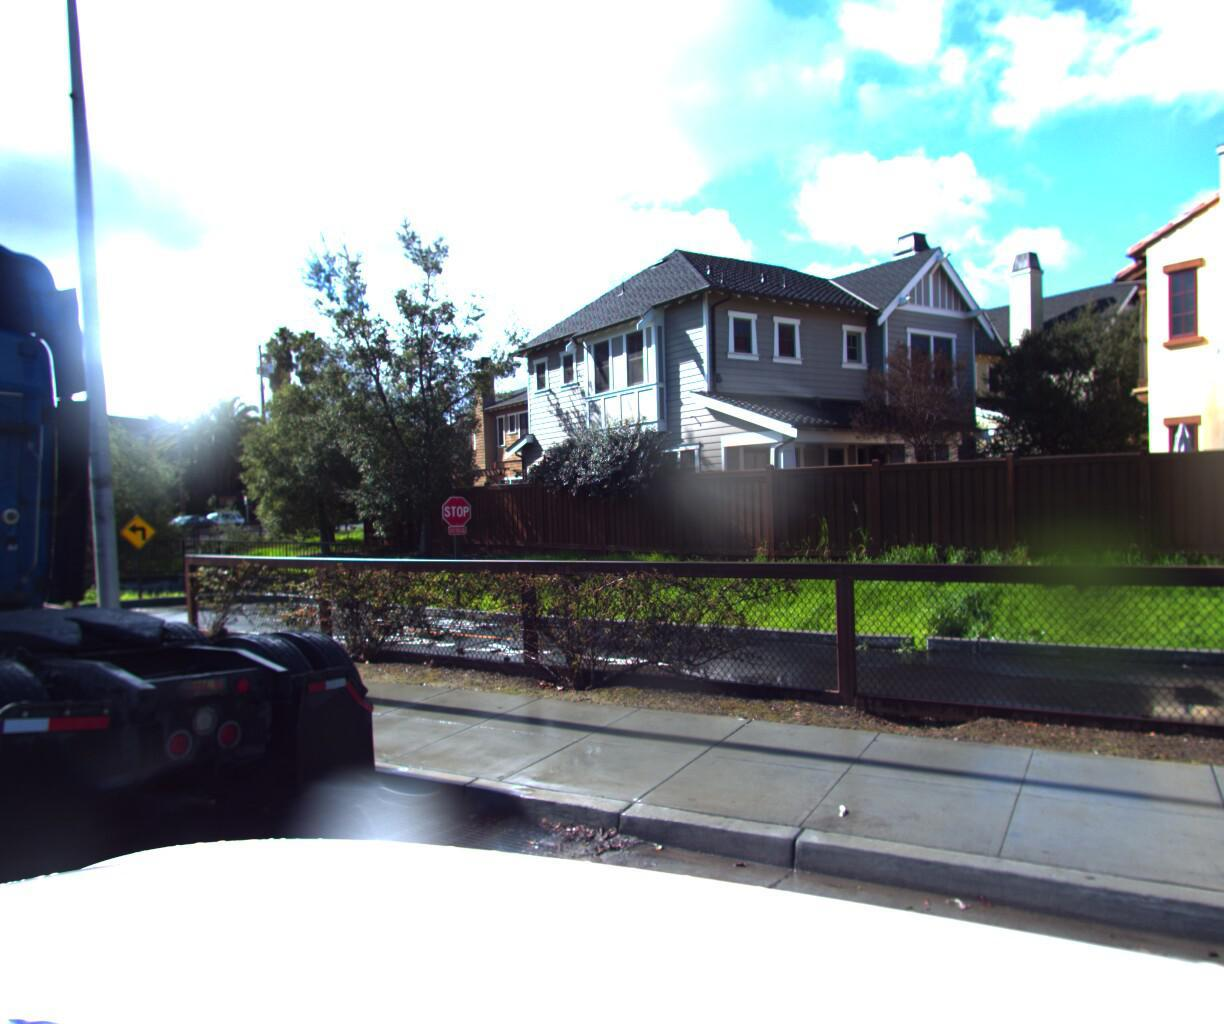truck: (0, 0, 411, 978)
